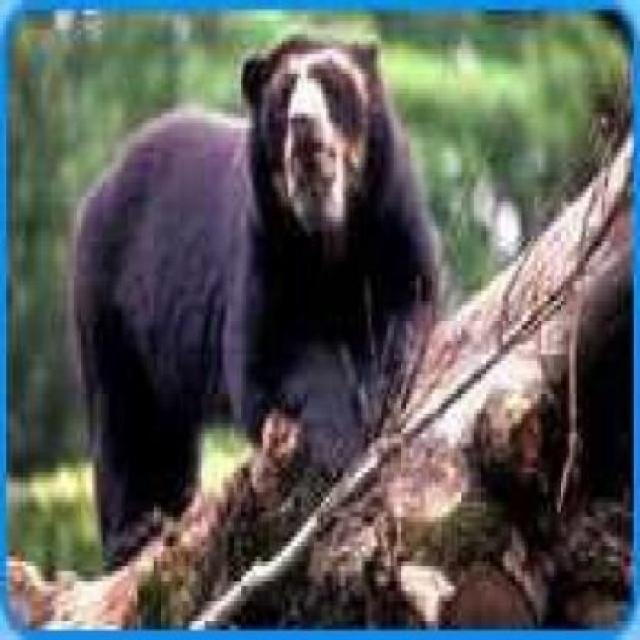Bear: (78, 31, 447, 552)
